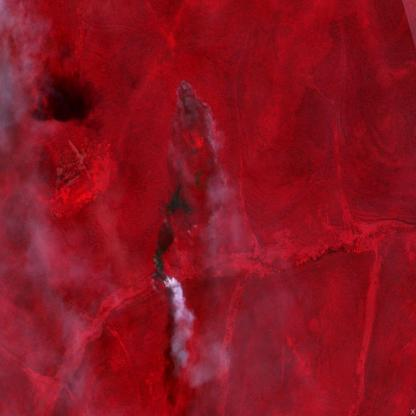fire: (162, 72, 218, 166), (146, 242, 176, 295)
